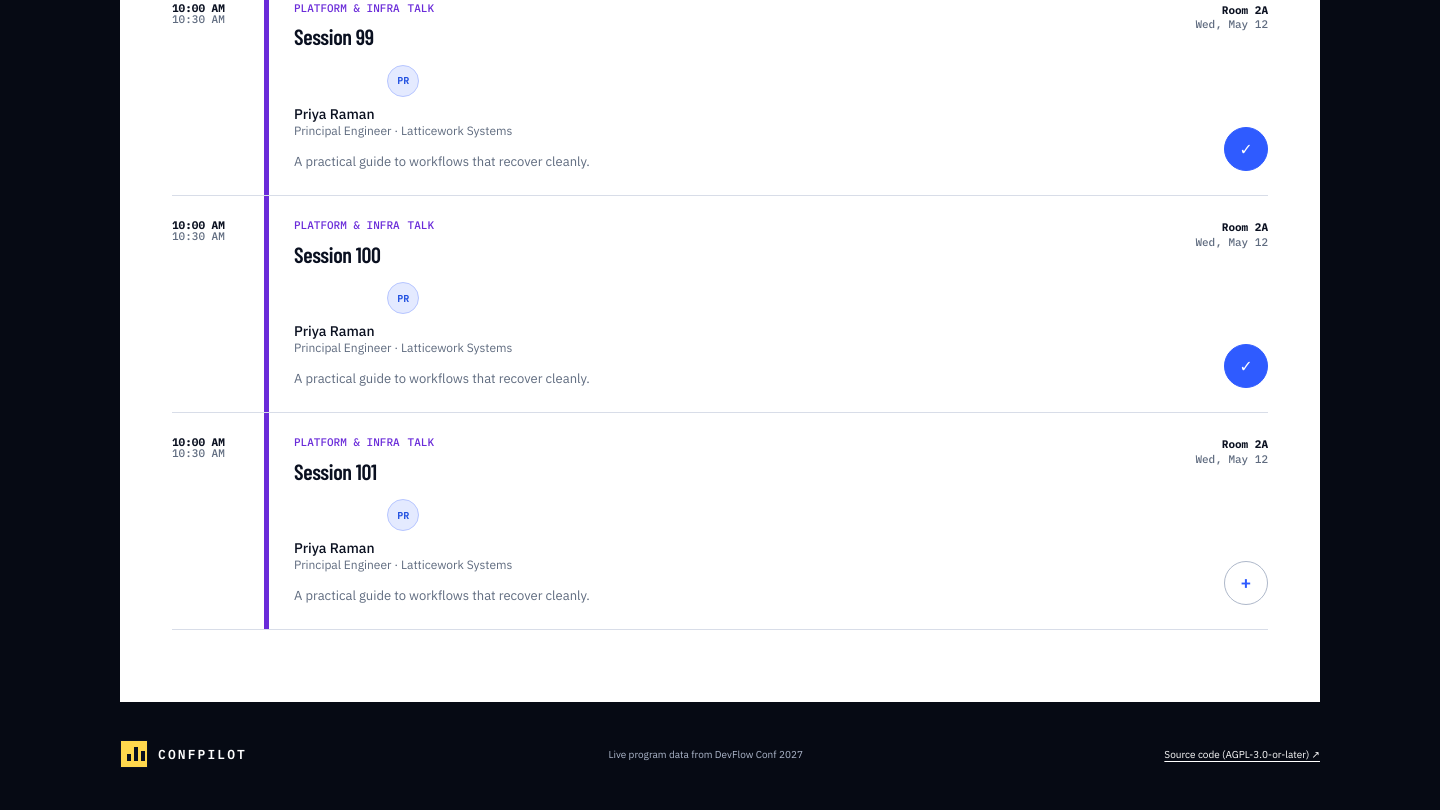
Test: bounds a personal schedule to the calendar export limit
(page scrolled)
Click the button named "Add Session 101 to my schedule". click: coordinates (1246, 583)
box: [1224,561,1268,605]
(page scrolled)
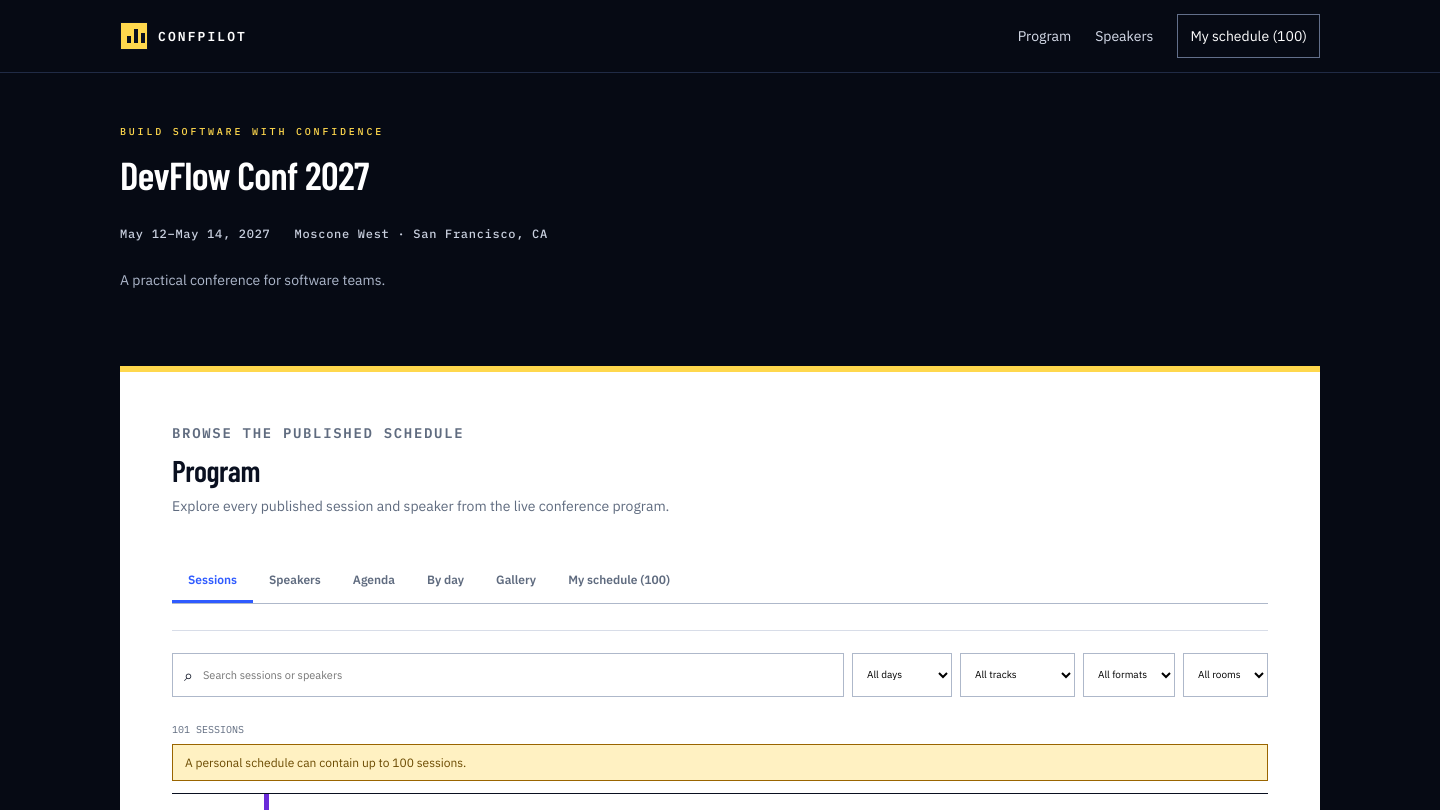
Check: the link "My schedule (100)" is shown, box [1177,14,1320,58]
Check: the message shows "up to 100 sessions", box [185,754,466,770]
